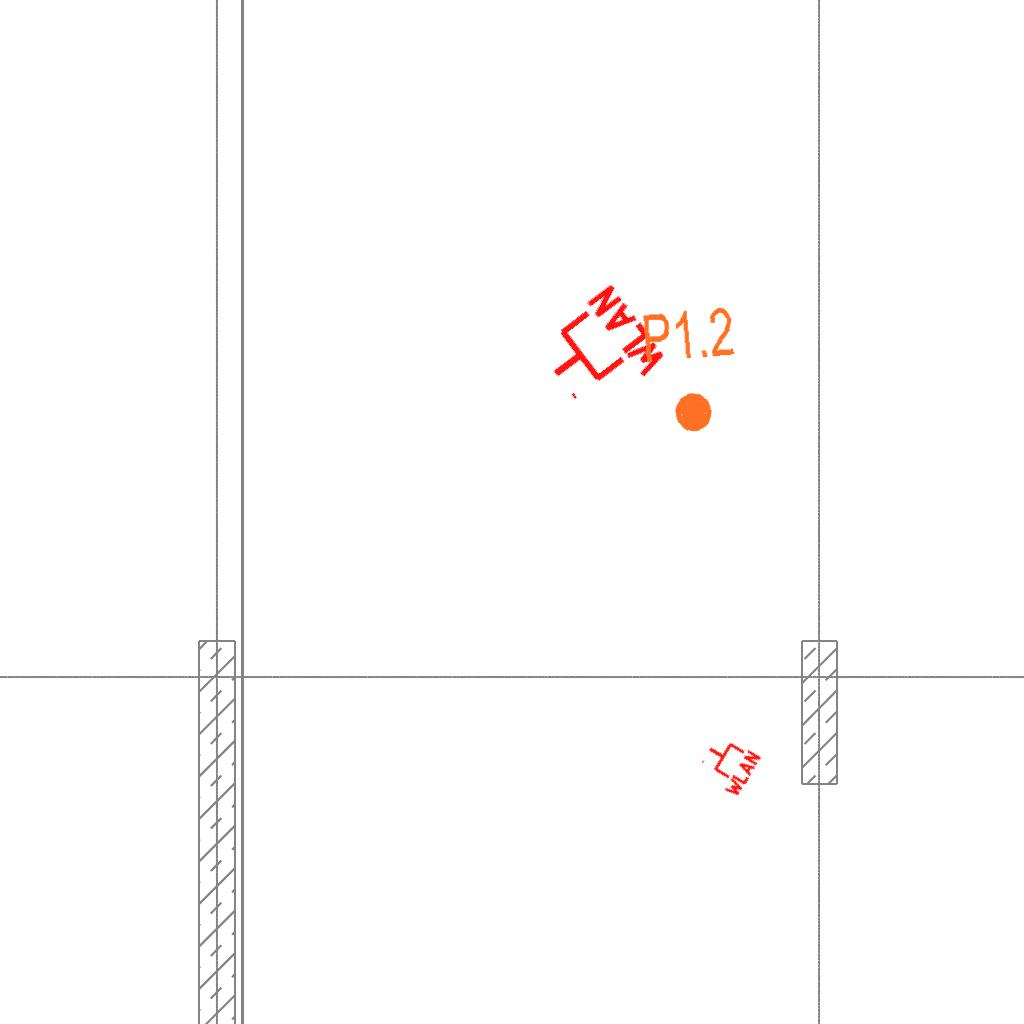Downlight_LED_Einbauleuchten_Flur: (639, 303, 744, 439)
WLAN: (526, 278, 673, 426), (692, 729, 764, 801)
